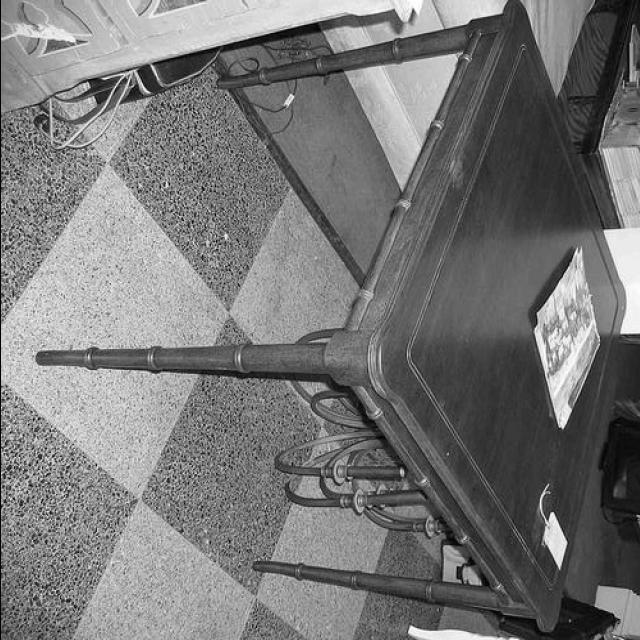table: (34, 1, 626, 626)
